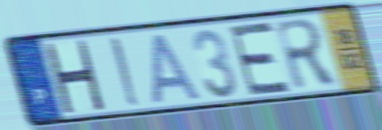3: (192, 27, 238, 100)
A: (150, 31, 205, 106)
E: (226, 19, 293, 98)
H: (41, 39, 107, 113)
I: (108, 35, 144, 109)
R: (272, 16, 342, 93)
